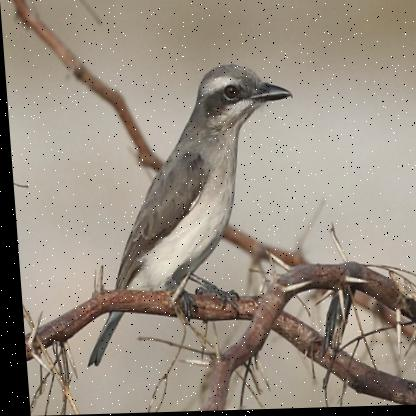Burung: (66, 63, 308, 368)
